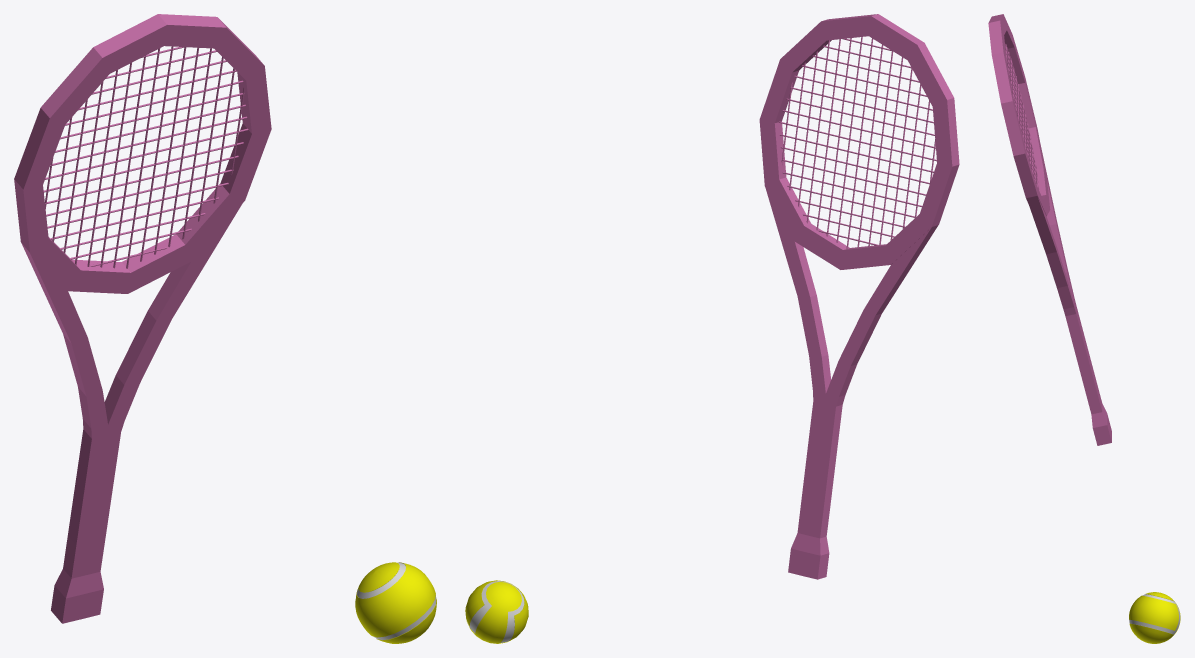
Rendered from racket.fbx.
3 views of the same model, side by side, from view 1: azimuth 30°, elevation 25°; view 2: azimuth 150°, elevation 25°; view 3: azimuth 270°, elevation 25° (orthographic). The views are drawn at different scales.
Visible parts, largest first — view 1: polySurface3, pSphere1; view 2: polySurface3, pSphere1; view 3: polySurface3, pSphere1.
Part boxes in pixels (x1,y1,x2,y2): polySurface3: (14,14,271,623); pSphere1: (355,562,436,643); polySurface3: (759,14,959,579); pSphere1: (465,580,528,643); polySurface3: (988,14,1111,445); pSphere1: (1129,592,1180,643).
Size of what is drawn, in the model's own units: 13.23 by 19.55 by 6.68.
